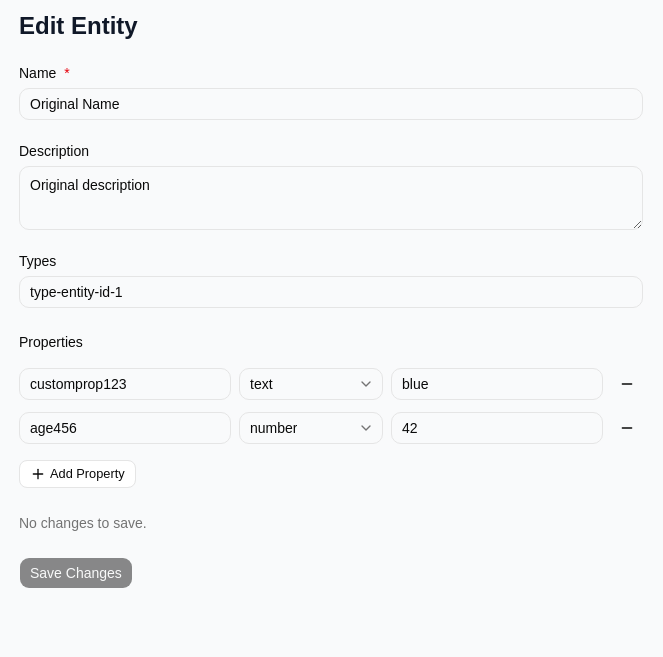
Test case: EditEntityPage › error handling › displays error message on submission failure
This screenshot has width=663, height=657.
Replace the text in the field with test id "entity-name-input" with "Changed" at (331, 104), box [19, 88, 643, 120]
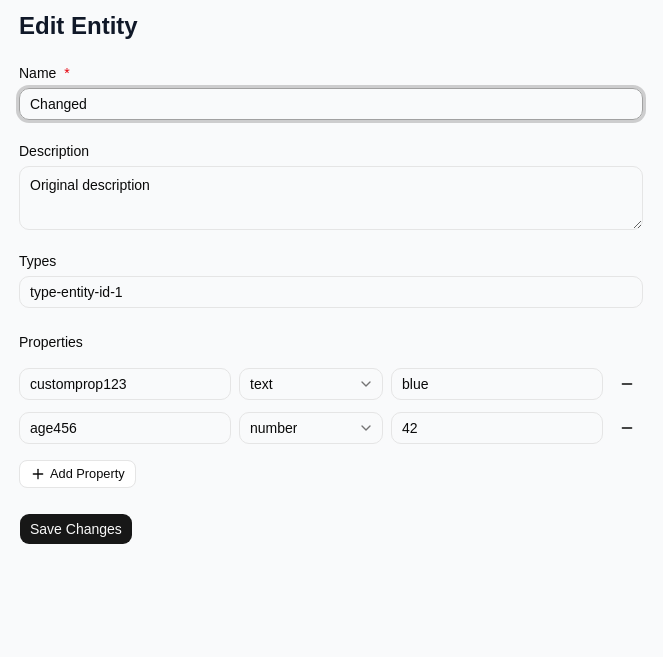
Click the button with test id "entity-submit" at (76, 529), box [19, 513, 133, 545]
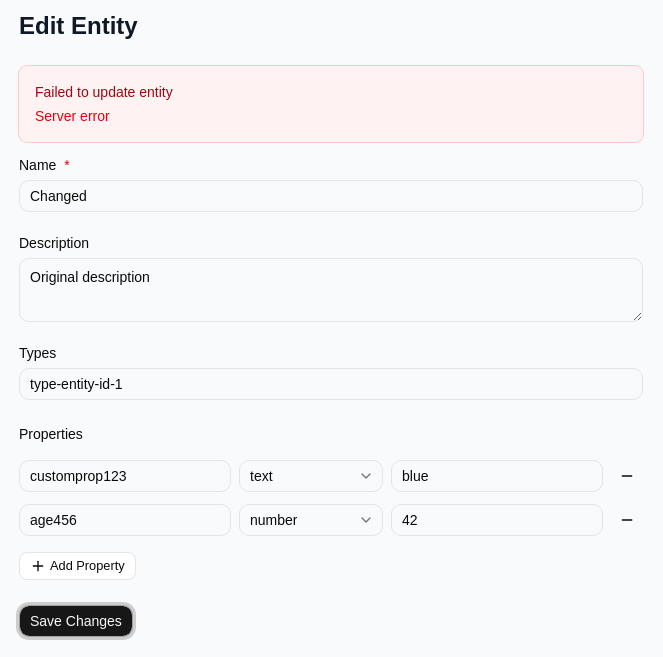
Now the element with test id "edit-error" is shown, box [19, 66, 643, 142]
Now the text "Failed to update entity" is shown, box [35, 84, 173, 100]
Now the text "Server error" is shown, box [35, 108, 110, 124]
